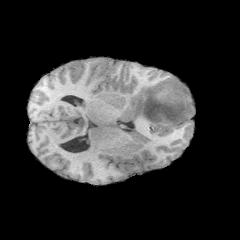glioma: (124, 84, 186, 125)
